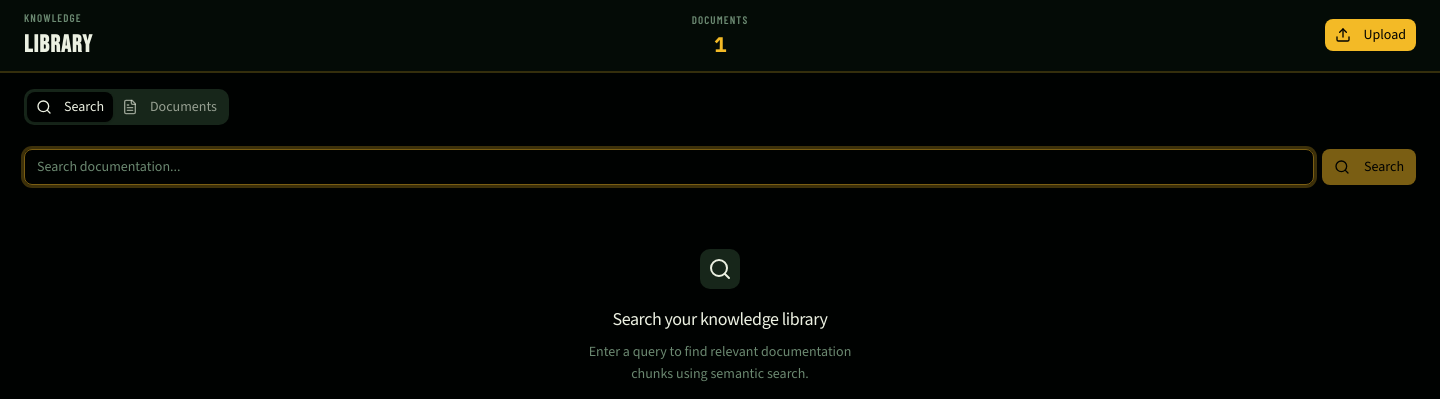
Test: KnowledgePage › Expandable rows › shows "No preview available" for documents without raw_text
This screenshot has width=1440, height=399.
// Switch to Documents tab
Step 1. Click the tab "Documents" → (169, 106), box [113,92,226,122]
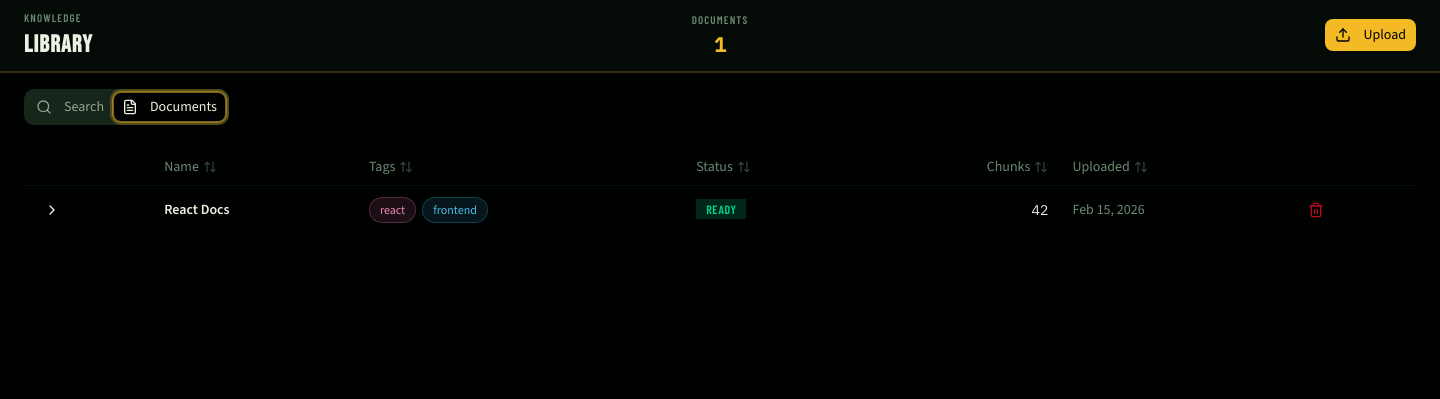
// Expand row
Step 2. Click the button named "Expand row" → (52, 210), box [36,194,68,226]
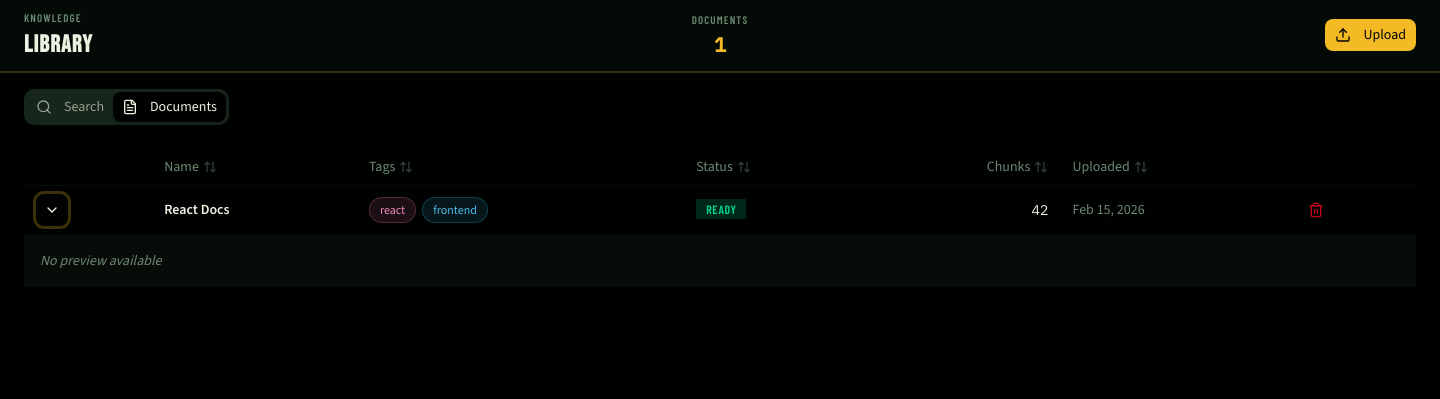
Check: the text "No preview available" is shown, box [40,250,162,270]
